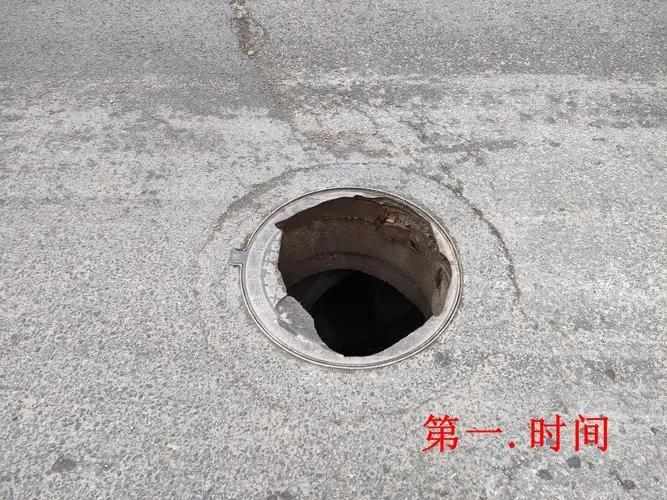wellcover: (212, 175, 498, 388)
